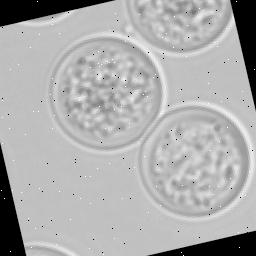picoshell: (47, 30, 168, 153), (137, 101, 256, 220), (125, 0, 235, 56), (25, 239, 82, 256), (19, 9, 76, 24)
